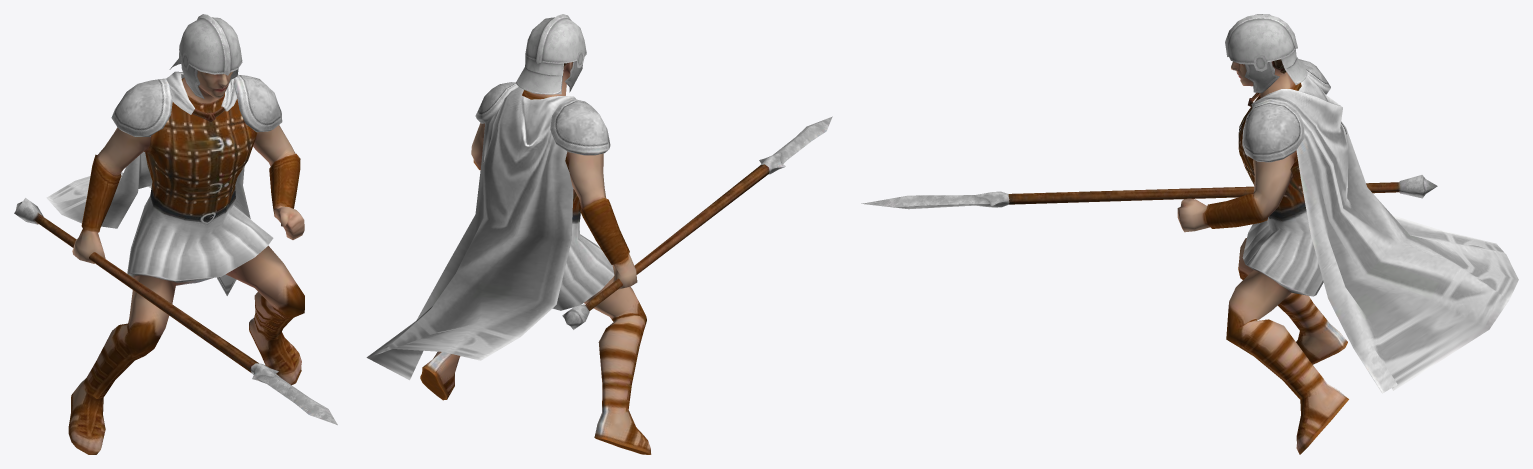
The model's file is rider-mediumcavalry.glb.
3 renders of one model, left to right at view 1: azimuth 30°, elevation 25°; view 2: azimuth 150°, elevation 25°; view 3: azimuth 270°, elevation 25°, orthographic. The views are drawn at different scales.
Bounding box in the file's own units: 1.14 × 1.98 × 2.9.
Materials: 3 (3 with a texture image).
